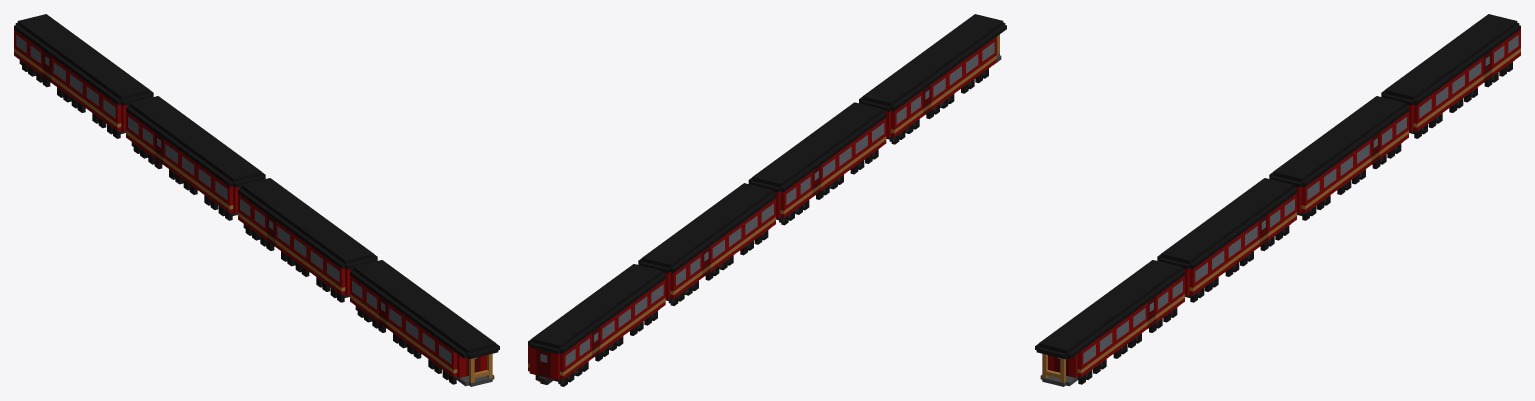
Rendered from wagoons.vox.obj.
3 views of the same model, side by side, from view 1: azimuth 30°, elevation 25°; view 2: azimuth 150°, elevation 25°; view 3: azimuth 330°, elevation 25° (orthographic).
Size of the model in its own units: 1 by 1.2 by 22.
1 material, 1 textured.
